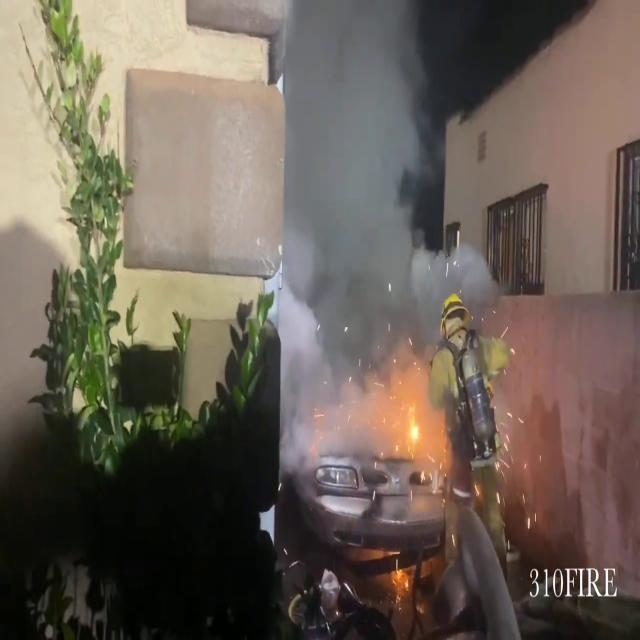Smoke: (280, 1, 438, 453)
